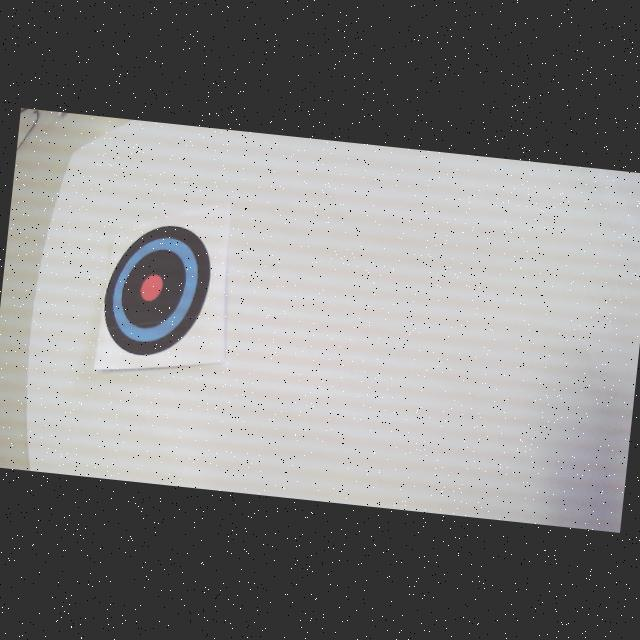COGNITIVE: (100, 218, 217, 362)
